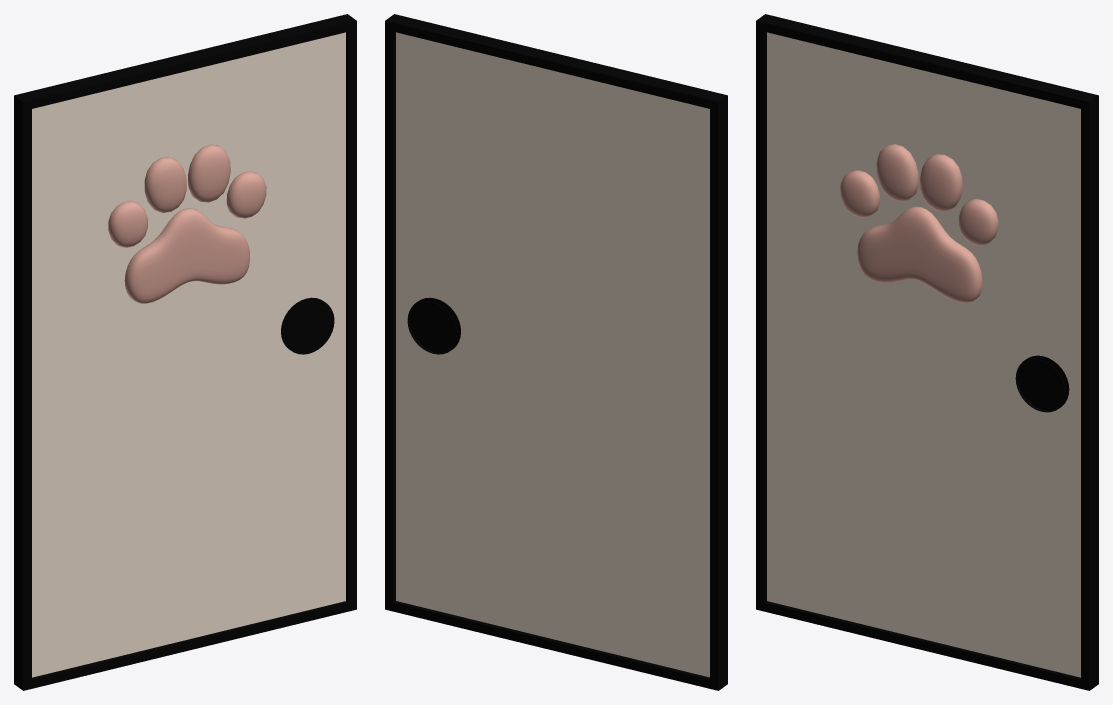
File: door.glb
3 views of the same model, side by side, from view 1: azimuth 30°, elevation 25°; view 2: azimuth 150°, elevation 25°; view 3: azimuth 330°, elevation 25° (orthographic).
Visible parts, largest first — view 1: Cube.021; view 2: Cube.021; view 3: Cube.021.
Part boxes in pixels (bbox=[...]): Cube.021: bbox=[14, 14, 356, 690]; Cube.021: bbox=[385, 14, 727, 690]; Cube.021: bbox=[756, 14, 1098, 690].
Bounding box in the file's own units: 0.8373 × 1.41 × 0.0659.
